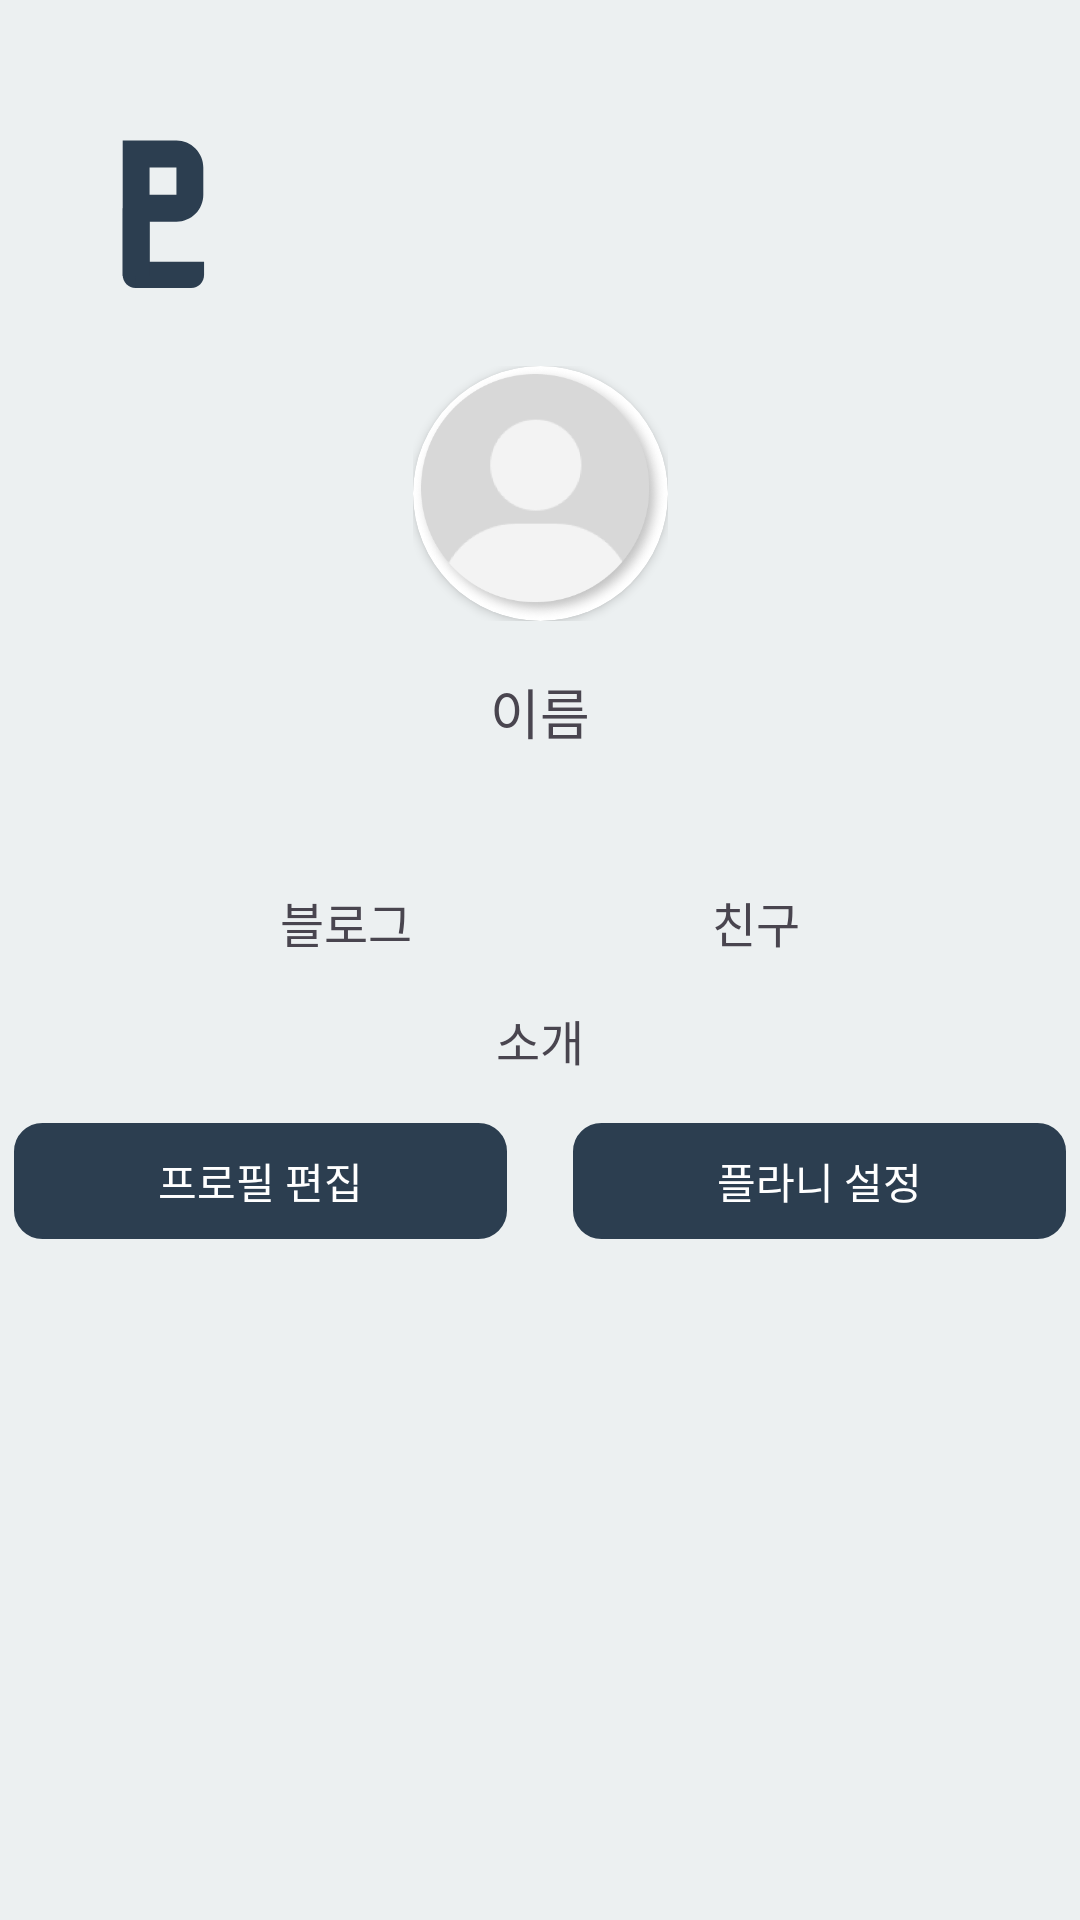

Icon bounding boxes for this 1080 × 1920 phone screenshot, format (x1, y1, x2, y2):
myprofile: (418, 374, 663, 621)
